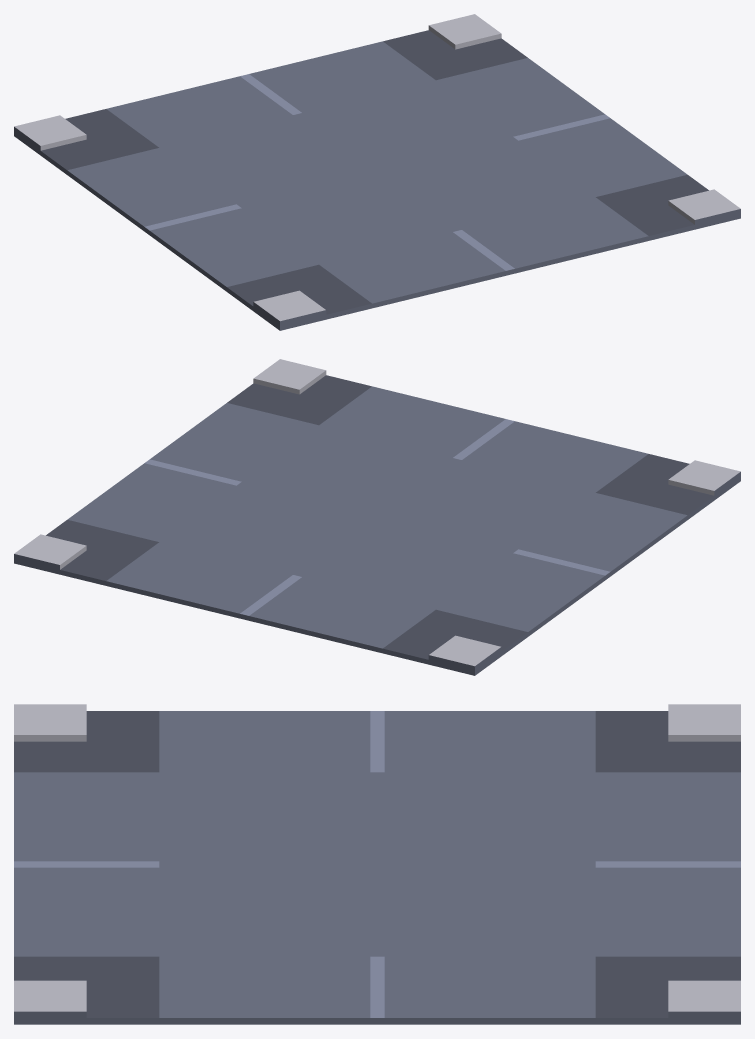
The model's file is Road Crossroad.glb.
3 views of the same model, one above another, from view 1: azimuth 30°, elevation 25°; view 2: azimuth 150°, elevation 25°; view 3: azimuth 270°, elevation 25° (orthographic). The views are drawn at different scales.
Visible parts, largest first — view 1: road_crossroad; view 2: road_crossroad; view 3: road_crossroad.
Boxes of the visible parts, x1,y1,x2,y2 form: road_crossroad: [14, 14, 740, 330]; road_crossroad: [14, 359, 740, 675]; road_crossroad: [14, 704, 740, 1024].
Size of the model in its own units: 1 by 0.02 by 1.
